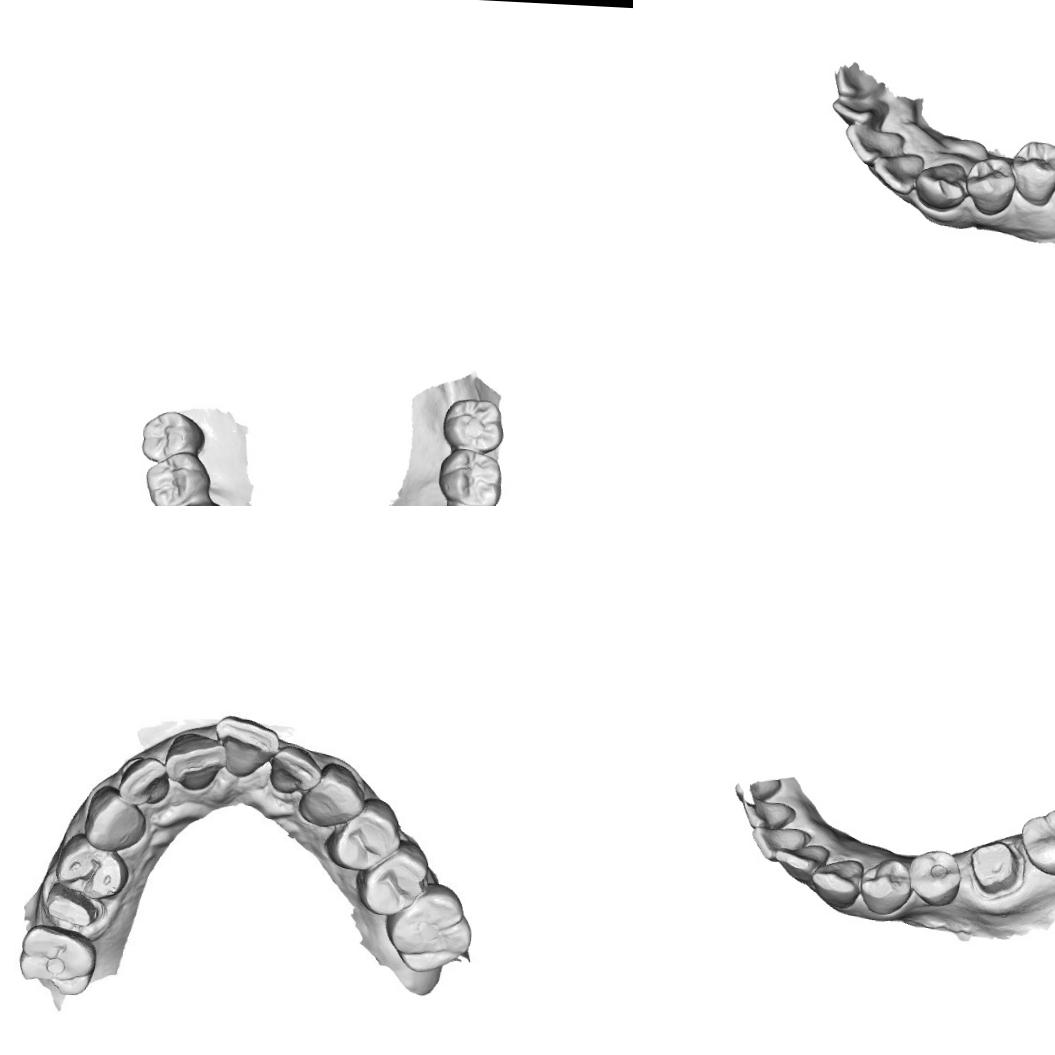canine: (300, 762, 365, 830), (82, 784, 146, 852), (913, 158, 968, 213), (809, 856, 863, 909)
crown: (966, 838, 1022, 898), (39, 882, 102, 934)
incisor: (210, 712, 280, 781), (162, 732, 230, 790), (115, 753, 174, 810), (266, 743, 325, 797), (842, 121, 906, 167), (869, 149, 926, 197), (773, 842, 830, 883), (828, 92, 890, 128), (749, 824, 806, 862), (738, 796, 796, 831), (732, 776, 782, 806)
molar: (382, 881, 476, 976), (17, 921, 100, 998), (141, 447, 213, 506), (438, 395, 506, 455), (137, 408, 206, 466), (435, 448, 504, 506), (1017, 802, 1055, 878)
premolar: (357, 842, 435, 918), (51, 832, 131, 903), (328, 798, 401, 875), (963, 154, 1018, 218), (906, 847, 963, 908), (858, 856, 912, 916), (1009, 137, 1055, 207)
